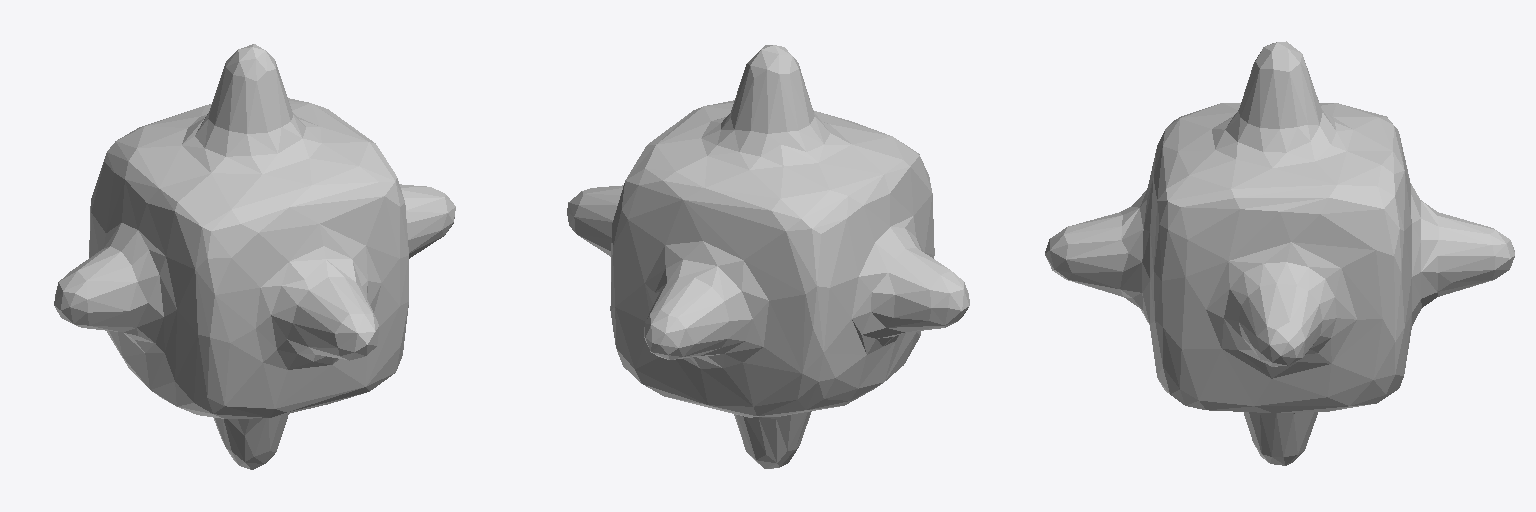
File: strange_cube.obj
3 renders of one model, left to right at view 1: azimuth 30°, elevation 25°; view 2: azimuth 150°, elevation 25°; view 3: azimuth 270°, elevation 25°, orthographic.
Parts seen in each view (by area): view 1: 立方体; view 2: 立方体; view 3: 立方体.
Boxes of the visible parts, box(x1,y1,x2,y2) form: 立方体: box(54, 44, 455, 469); 立方体: box(567, 45, 969, 468); 立方体: box(1045, 41, 1514, 465).
Bounding box in the file's own units: 3.55 × 3.61 × 3.64.